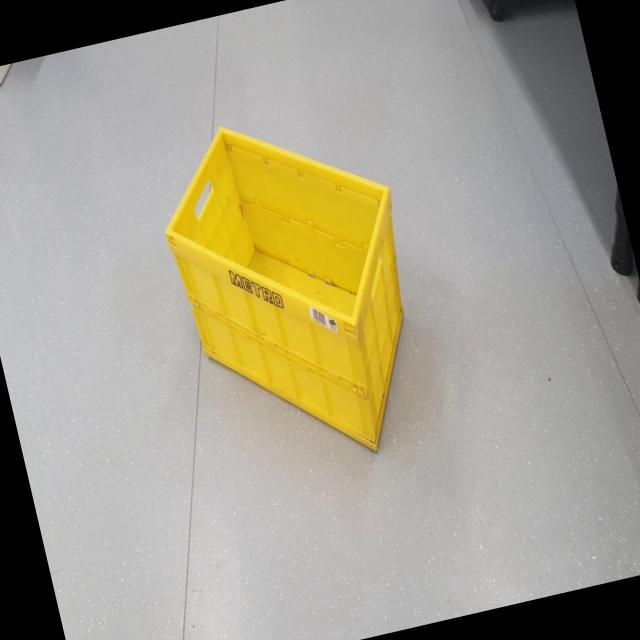box: (130, 91, 455, 510)
